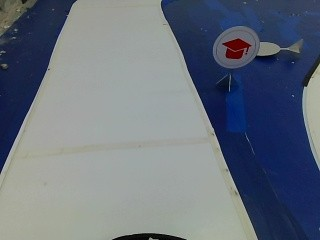school: (211, 26, 260, 70)
